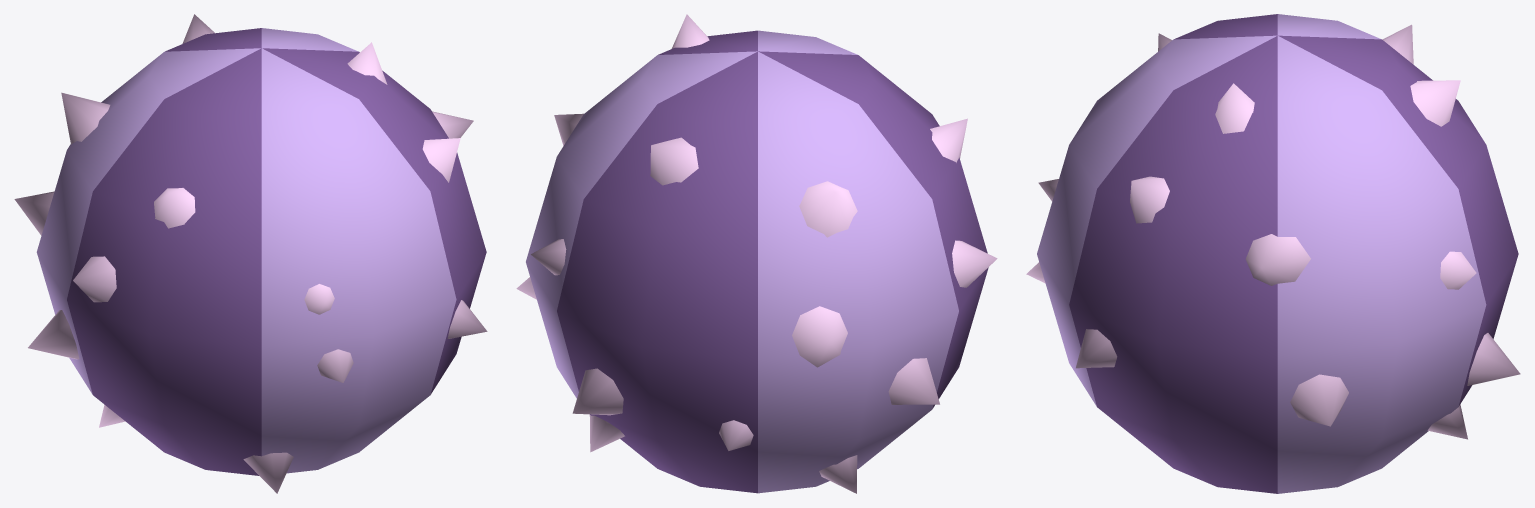
The model's file is Cacti3.fbx.
3 renders of one model, left to right at view 1: azimuth 30°, elevation 25°; view 2: azimuth 150°, elevation 25°; view 3: azimuth 270°, elevation 25°, orthographic. The views are drawn at different scales.
Parts seen in each view (by area): view 1: Cacti3_LOD0; view 2: Cacti3_LOD0; view 3: Cacti3_LOD0.
Part boxes in pixels (x1,y1,x2,y2): Cacti3_LOD0: (14, 14, 487, 493); Cacti3_LOD0: (516, 14, 997, 493); Cacti3_LOD0: (1026, 14, 1520, 493).
Size of what is drawn, in the model's own units: 125 by 108 by 119.
